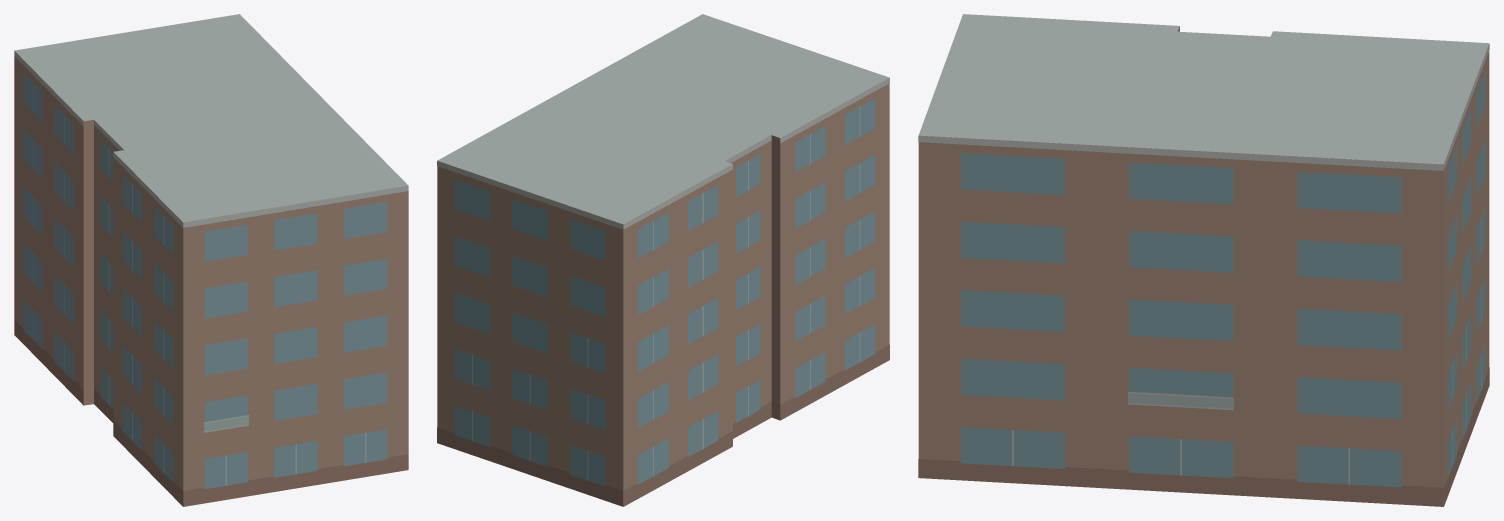
The model's file is survey-upis-32494317.glb.
3 views of the same model, side by side, from view 1: azimuth 30°, elevation 25°; view 2: azimuth 150°, elevation 25°; view 3: azimuth 270°, elevation 25° (orthographic). The views are drawn at different scales.
Parts seen in each view (by area): view 1: survey-upis-32494317.tmp; view 2: survey-upis-32494317.tmp; view 3: survey-upis-32494317.tmp.
Boxes of the visible parts, <box> form: survey-upis-32494317.tmp: <box>14,14,408,506</box>; survey-upis-32494317.tmp: <box>437,14,889,506</box>; survey-upis-32494317.tmp: <box>918,14,1489,506</box>.
Size of the model in its own units: 12.14 by 12.87 by 19.46.
